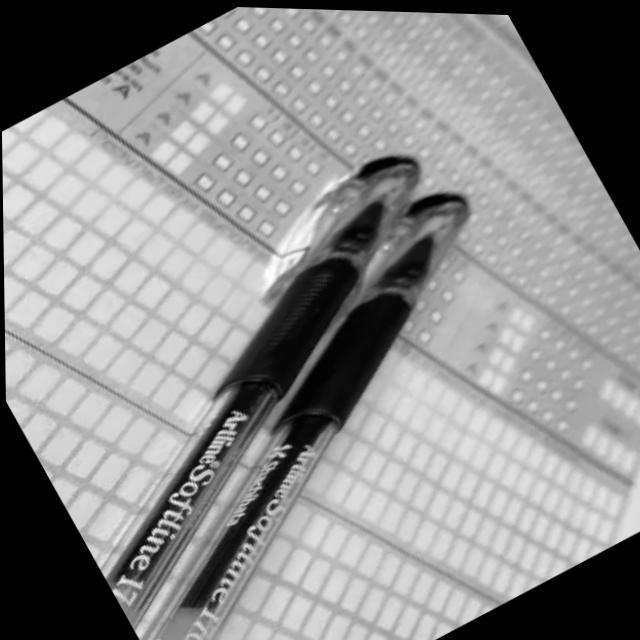pencil: (108, 151, 425, 639), (162, 162, 474, 640)
